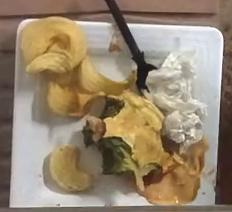burger: (82, 90, 168, 191)
fries: (21, 17, 135, 118), (50, 145, 92, 192)
